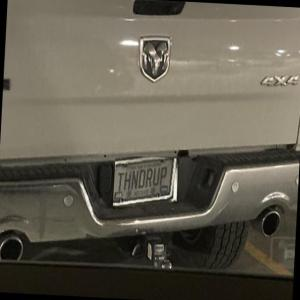Plate: (110, 155, 176, 202)
